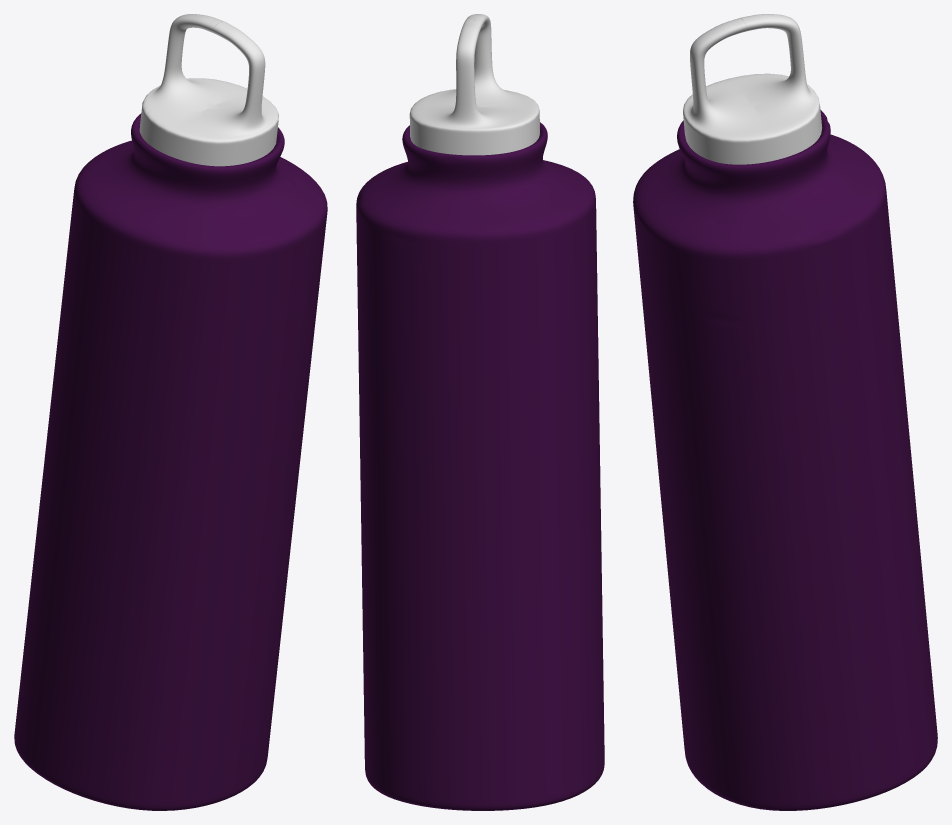
File: Bottle_1.gltf
3 views of the same model, side by side, from view 1: azimuth 30°, elevation 25°; view 2: azimuth 150°, elevation 25°; view 3: azimuth 270°, elevation 25° (orthographic). The views are drawn at different scales.
Visible parts, largest first — view 1: Cube_Cube.001; view 2: Cube_Cube.001; view 3: Cube_Cube.001.
Boxes of the visible parts, bbox=[...] form: Cube_Cube.001: bbox=[14, 14, 327, 810]; Cube_Cube.001: bbox=[356, 14, 604, 810]; Cube_Cube.001: bbox=[633, 14, 937, 810].
Bounding box in the file's own units: 2.15 × 6.18 × 2.23.
